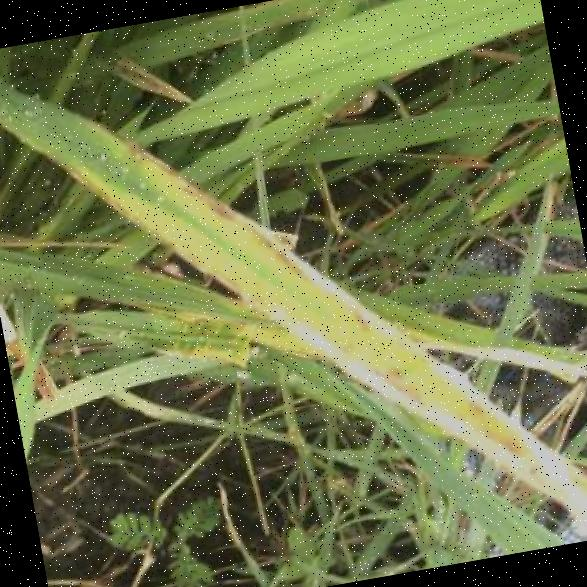Bacteria_Leaf_Blight: (219, 189, 431, 437)
